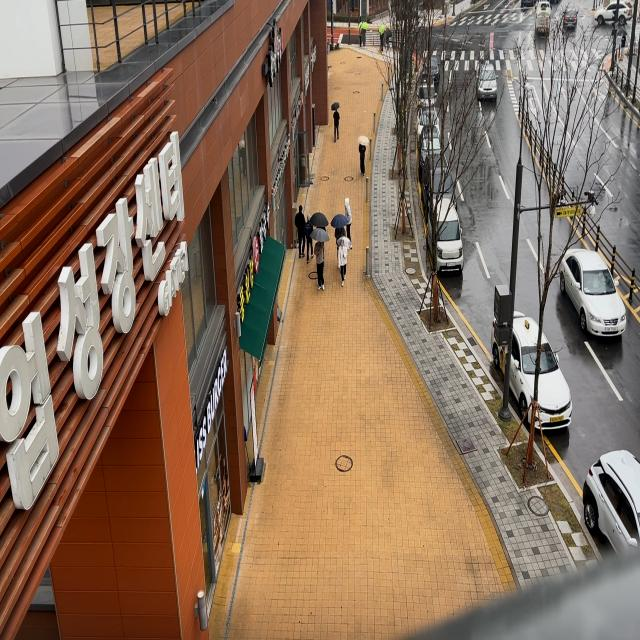Car: (496, 290, 573, 442), (567, 425, 640, 566), (549, 231, 634, 346), (424, 193, 469, 274), (420, 155, 459, 212), (418, 121, 446, 165), (591, 0, 633, 28), (419, 42, 446, 84), (478, 56, 502, 102), (415, 106, 443, 139), (417, 75, 440, 114), (562, 1, 580, 34)
Truck: (532, 0, 554, 43)
